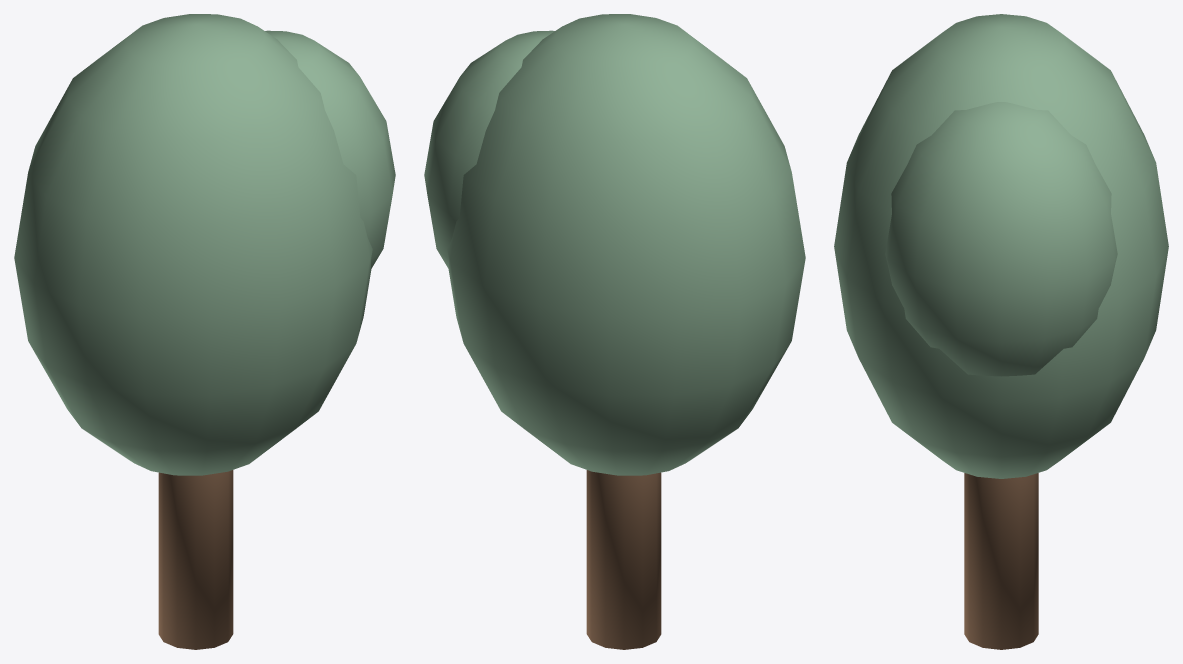
The model's file is tree.glb.
The picture shows the model from 3 angles, left to right: view 1: azimuth 30°, elevation 25°; view 2: azimuth 150°, elevation 25°; view 3: azimuth 270°, elevation 25°; orthographic projection.
Visible parts, largest first — view 1: Crown, Trunk; view 2: Crown, Trunk; view 3: Crown, Trunk.
Boxes of the visible parts, x1,y1,x2,y2 form: Crown: [14, 14, 395, 475]; Trunk: [158, 470, 233, 649]; Crown: [424, 14, 805, 475]; Trunk: [586, 470, 661, 649]; Crown: [834, 14, 1168, 478]; Trunk: [964, 473, 1038, 649].
Bounding box in the file's own units: 1.07 × 1.8 × 0.9.
